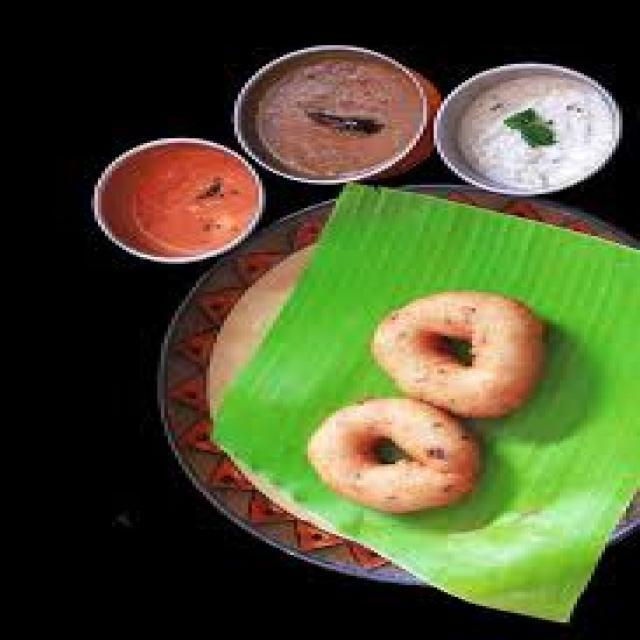sweet: (464, 68, 612, 194)
